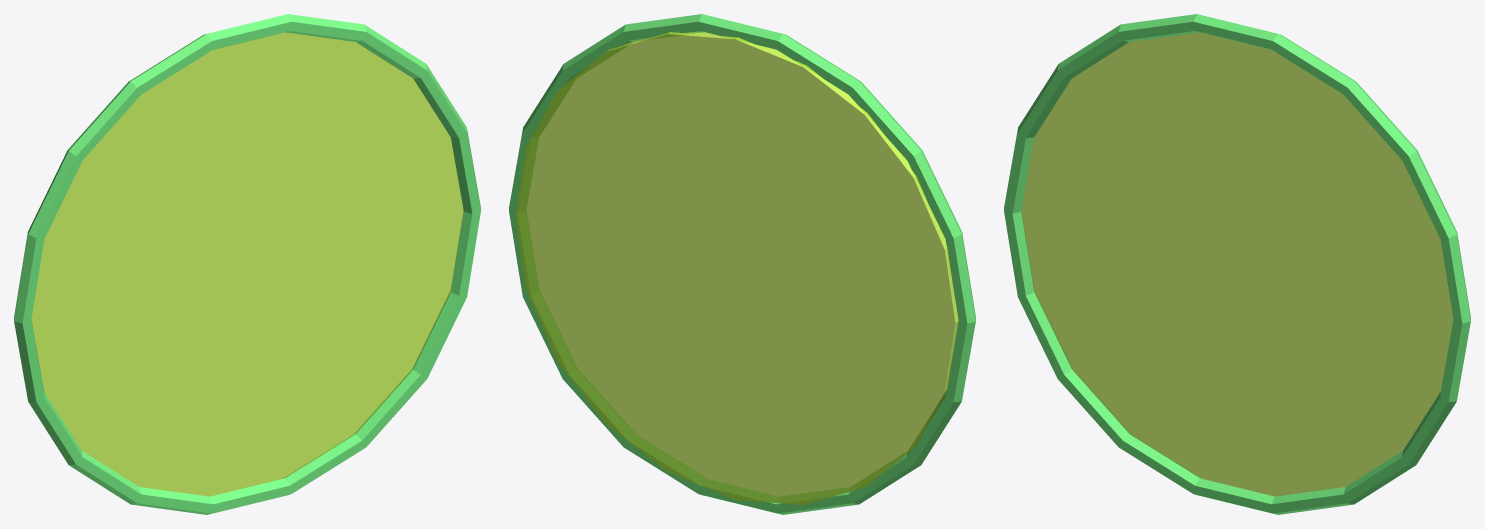
Rendered from acid_pool.glb.
3 renders of one model, left to right at view 1: azimuth 30°, elevation 25°; view 2: azimuth 150°, elevation 25°; view 3: azimuth 330°, elevation 25°, orthographic.
Parts seen in each view (by area): view 1: pool, rim; view 2: pool, rim; view 3: pool, rim.
Boxes of the visible parts, x1,y1,x2,y2 form: pool: (31, 32, 463, 496); rim: (14, 14, 480, 514); pool: (515, 32, 958, 505); rim: (509, 14, 975, 514); pool: (1021, 32, 1453, 496); rim: (1004, 14, 1470, 514).
Bounding box in the file's own units: 1.91 × 1.88 × 0.0803.
